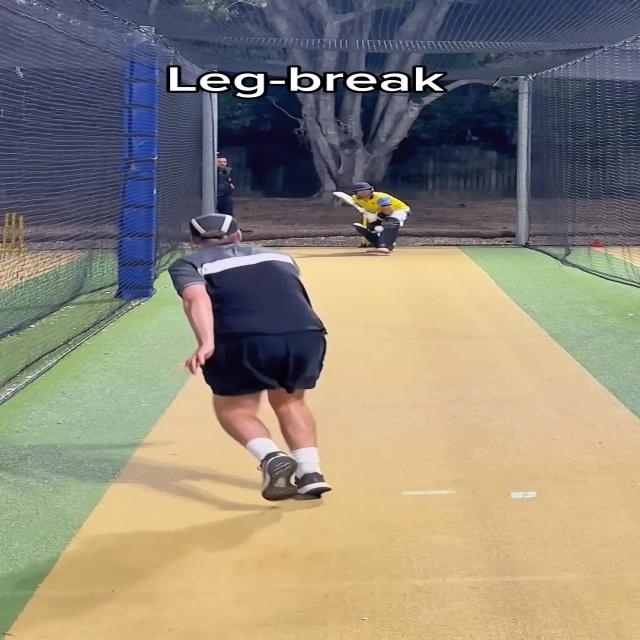Cricket ball: (373, 225, 385, 232)
